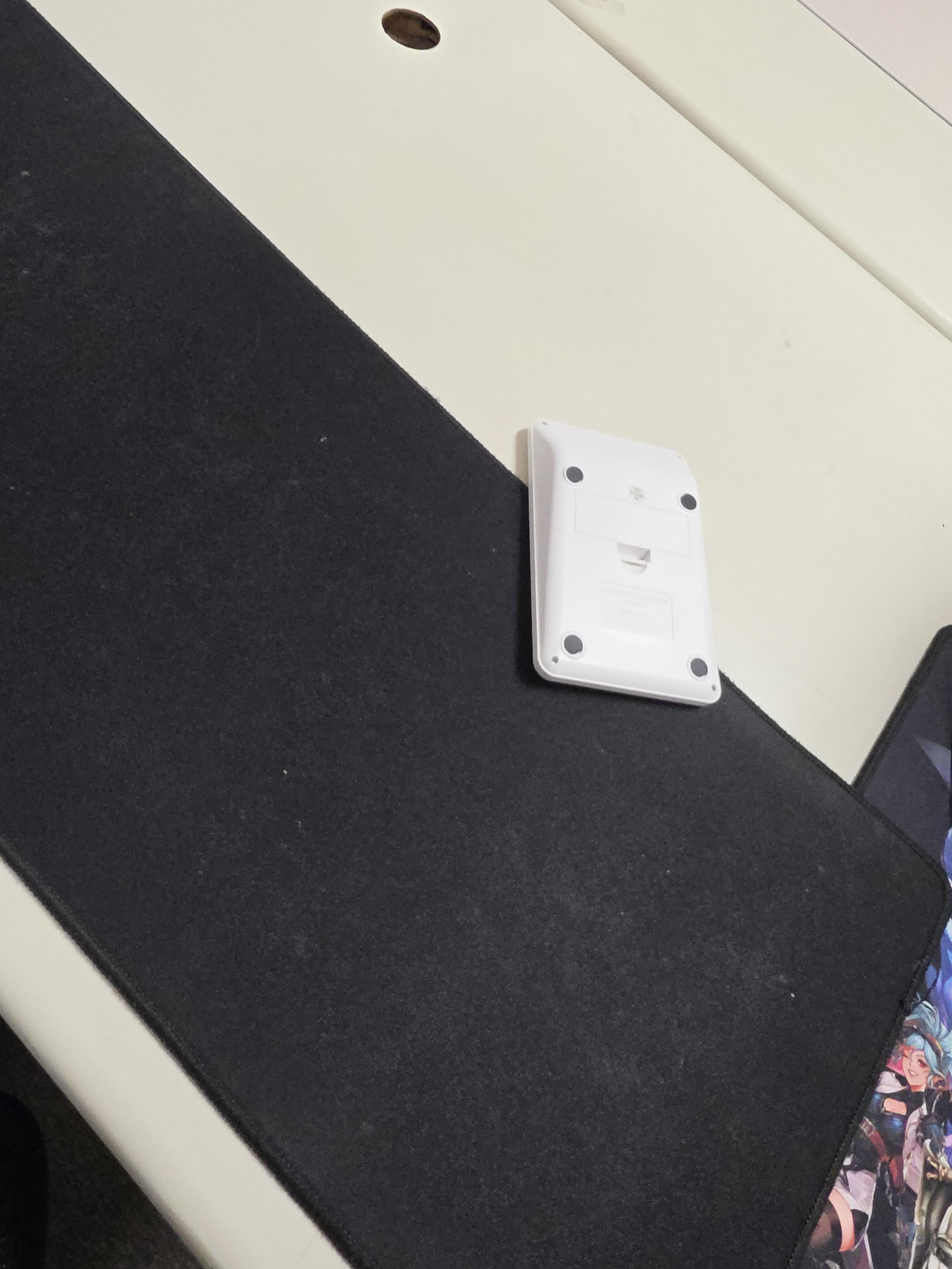calculator: (526, 419, 722, 707)
